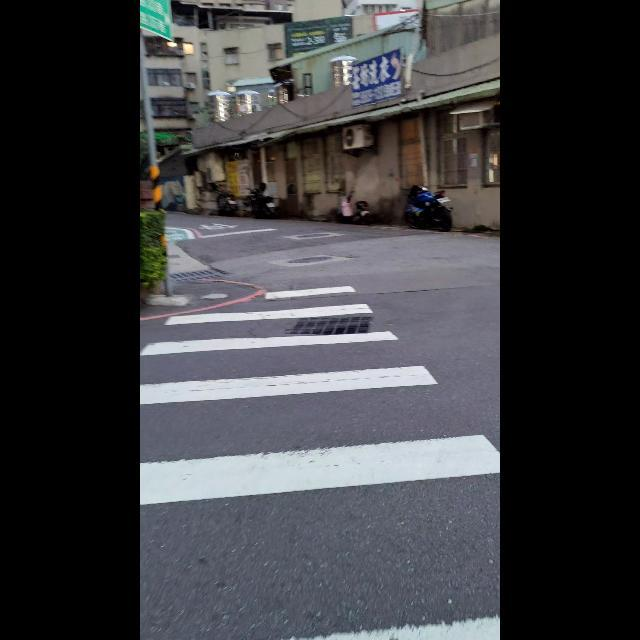sidewalk: (140, 281, 500, 640)
